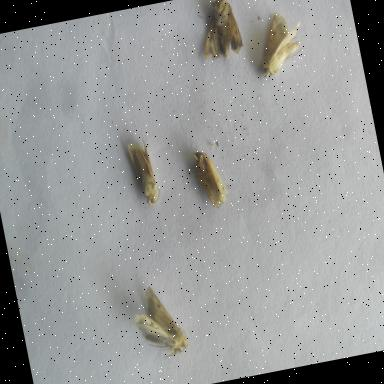abw: (123, 274, 196, 370), (244, 0, 313, 84), (185, 0, 256, 70), (119, 126, 171, 213), (186, 139, 236, 220)
